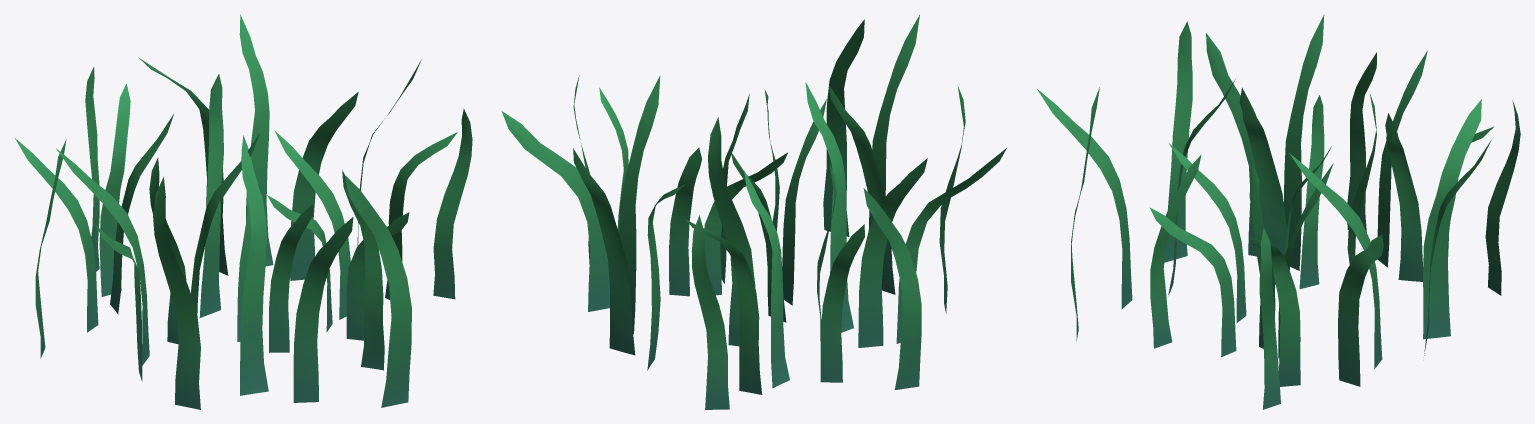
File: Stylized Grass Reupdated.fbx
The picture shows the model from 3 angles, left to right: view 1: azimuth 30°, elevation 25°; view 2: azimuth 150°, elevation 25°; view 3: azimuth 270°, elevation 25°; orthographic projection.
Parts seen in each view (by area): view 1: Grass; view 2: Grass; view 3: Grass.
Boxes of the visible parts, bbox=[...] form: Grass: bbox=[15, 14, 472, 409]; Grass: bbox=[501, 15, 1006, 409]; Grass: bbox=[1037, 14, 1520, 409].
Bounding box in the file's own units: 0.3549 × 0.1891 × 0.3604.
